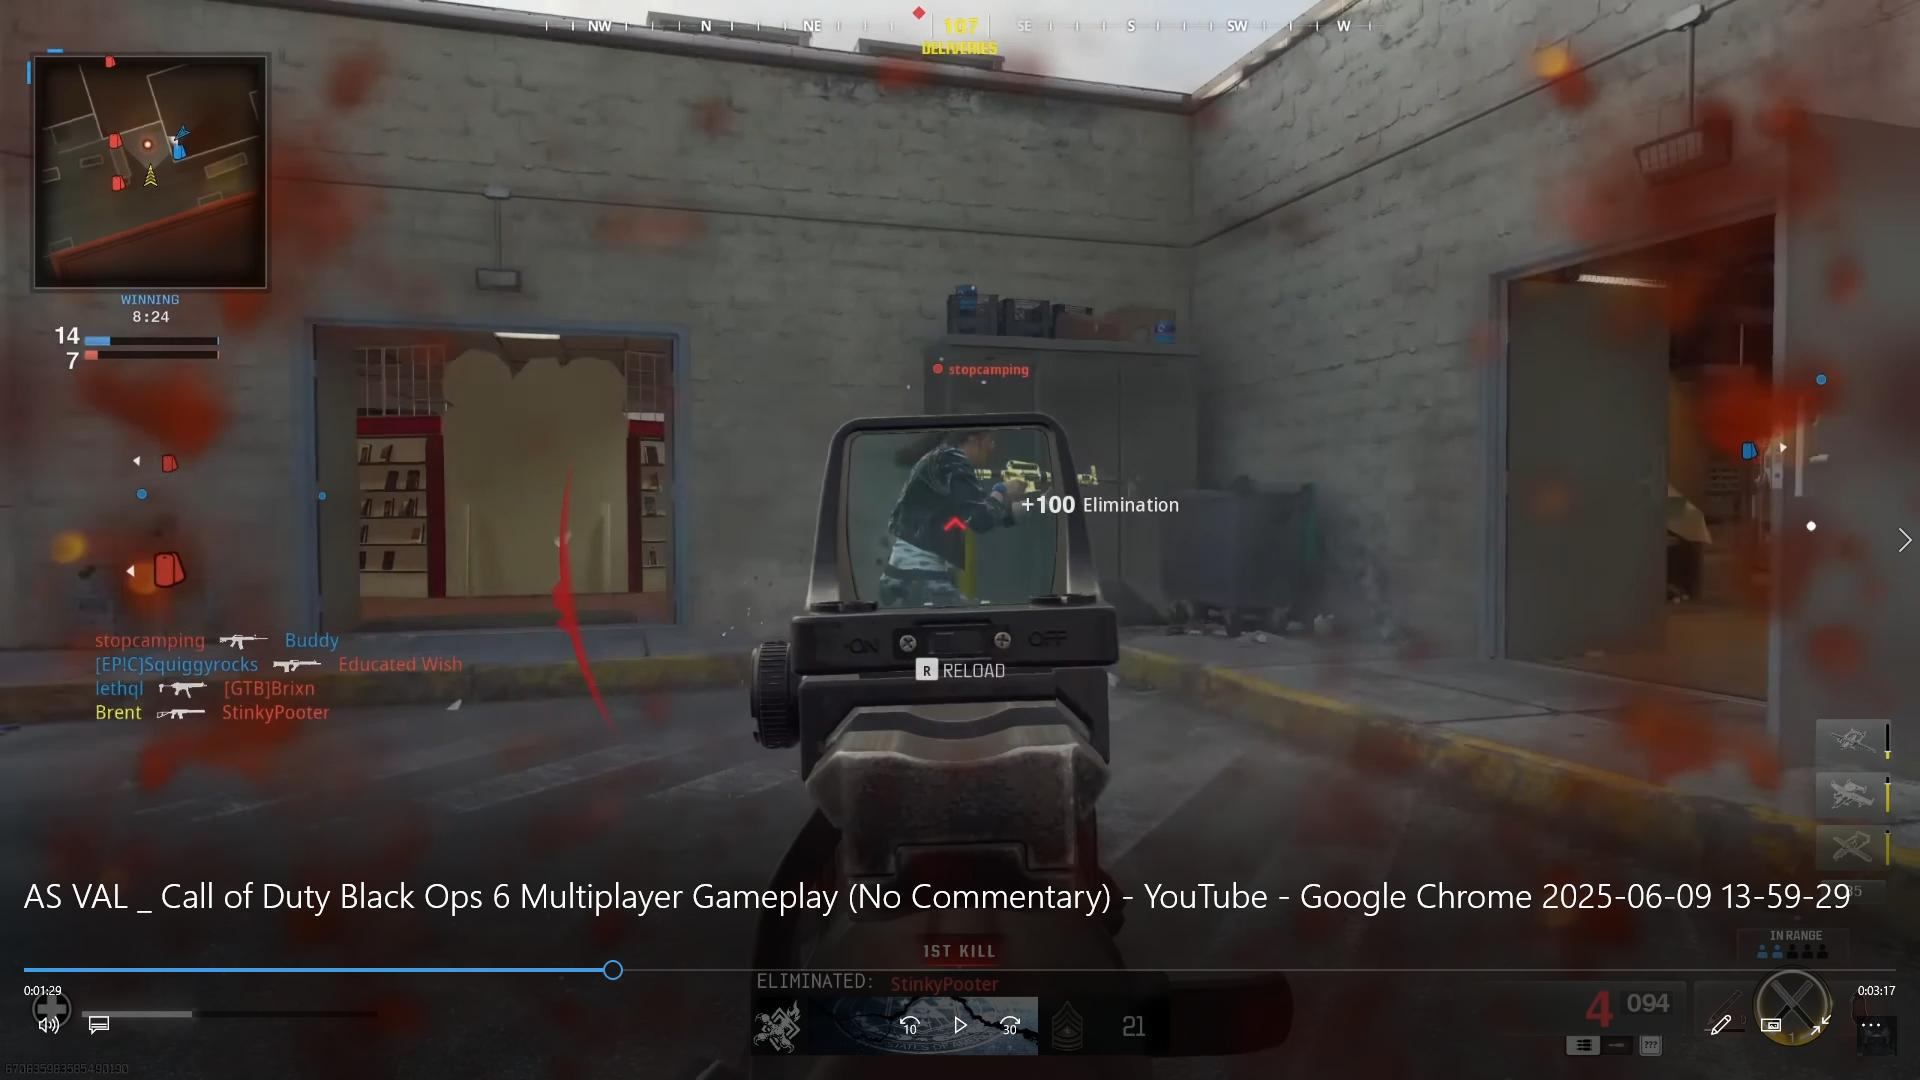Enemy: (894, 422, 1002, 616)
